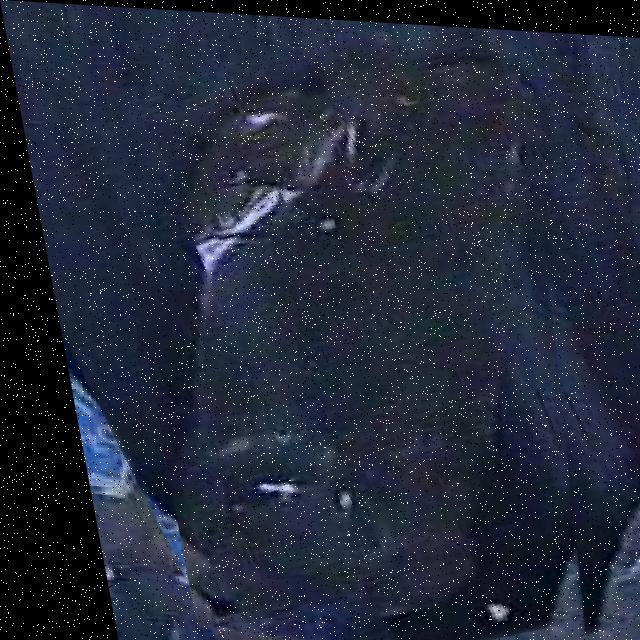litter: (129, 20, 522, 640)
